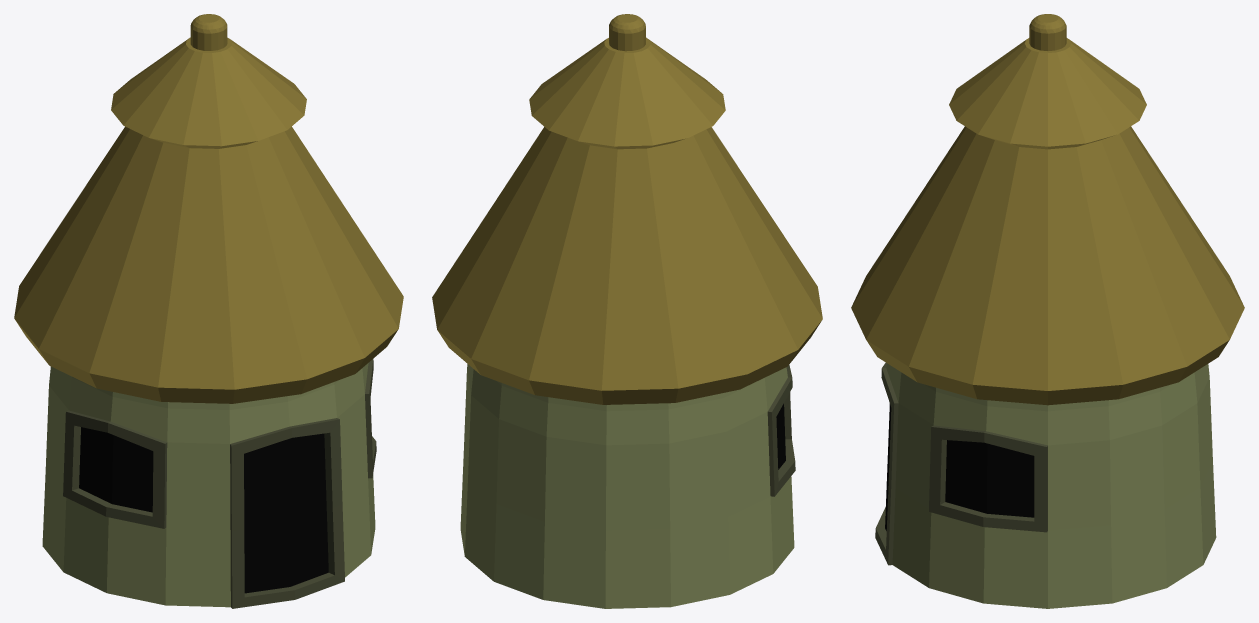
Rendered from Hut.fbx.
3 views of the same model, side by side, from view 1: azimuth 30°, elevation 25°; view 2: azimuth 150°, elevation 25°; view 3: azimuth 270°, elevation 25° (orthographic).
Visible parts, largest first — view 1: Doors and Windows; view 2: Doors and Windows; view 3: Doors and Windows.
Boxes of the visible parts, <box> form: Doors and Windows: <box>14,14,403,608</box>; Doors and Windows: <box>432,14,822,608</box>; Doors and Windows: <box>851,14,1244,608</box>.
Size of the model in its own units: 251 by 366 by 251.
